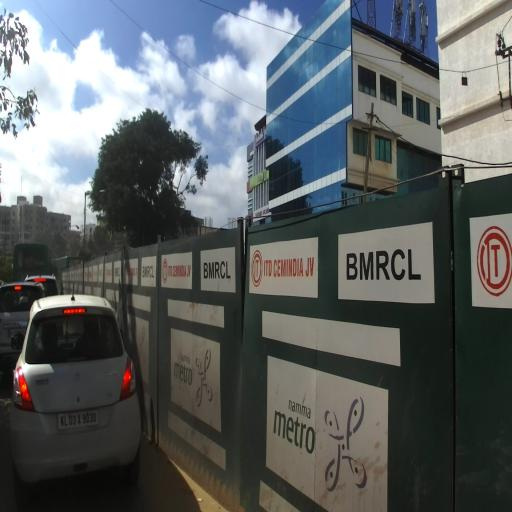street_light_0: (84, 189, 106, 196), (58, 225, 80, 228)
